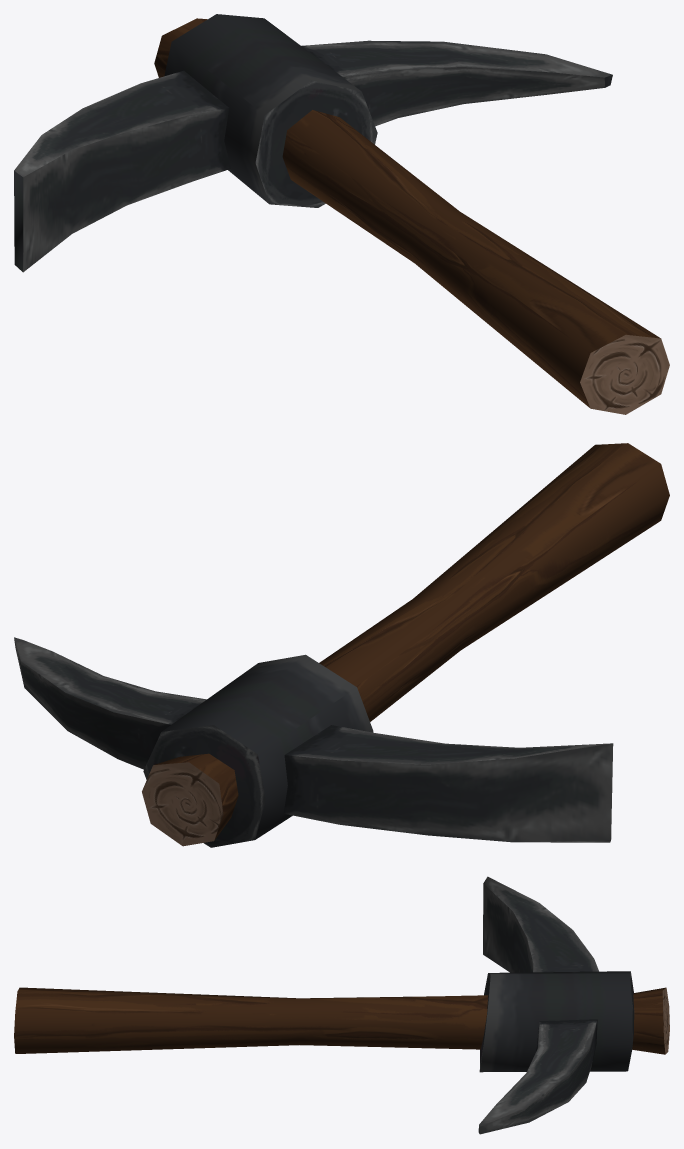
The model's file is SM_PROP_pickaxe_battle.fbx.
3 renders of one model, top to bottom at view 1: azimuth 30°, elevation 25°; view 2: azimuth 150°, elevation 25°; view 3: azimuth 270°, elevation 25°, orthographic. The views are drawn at different scales.
Parts seen in each view (by area): view 1: SM_PROP_pickaxe_battle; view 2: SM_PROP_pickaxe_battle; view 3: SM_PROP_pickaxe_battle.
Part boxes in pixels (x1,y1,x2,y2): SM_PROP_pickaxe_battle: (14,14,669,414); SM_PROP_pickaxe_battle: (14,443,669,847); SM_PROP_pickaxe_battle: (14,876,669,1134).
Bounding box in the file's own units: 70.32 × 13.94 × 89.7.
